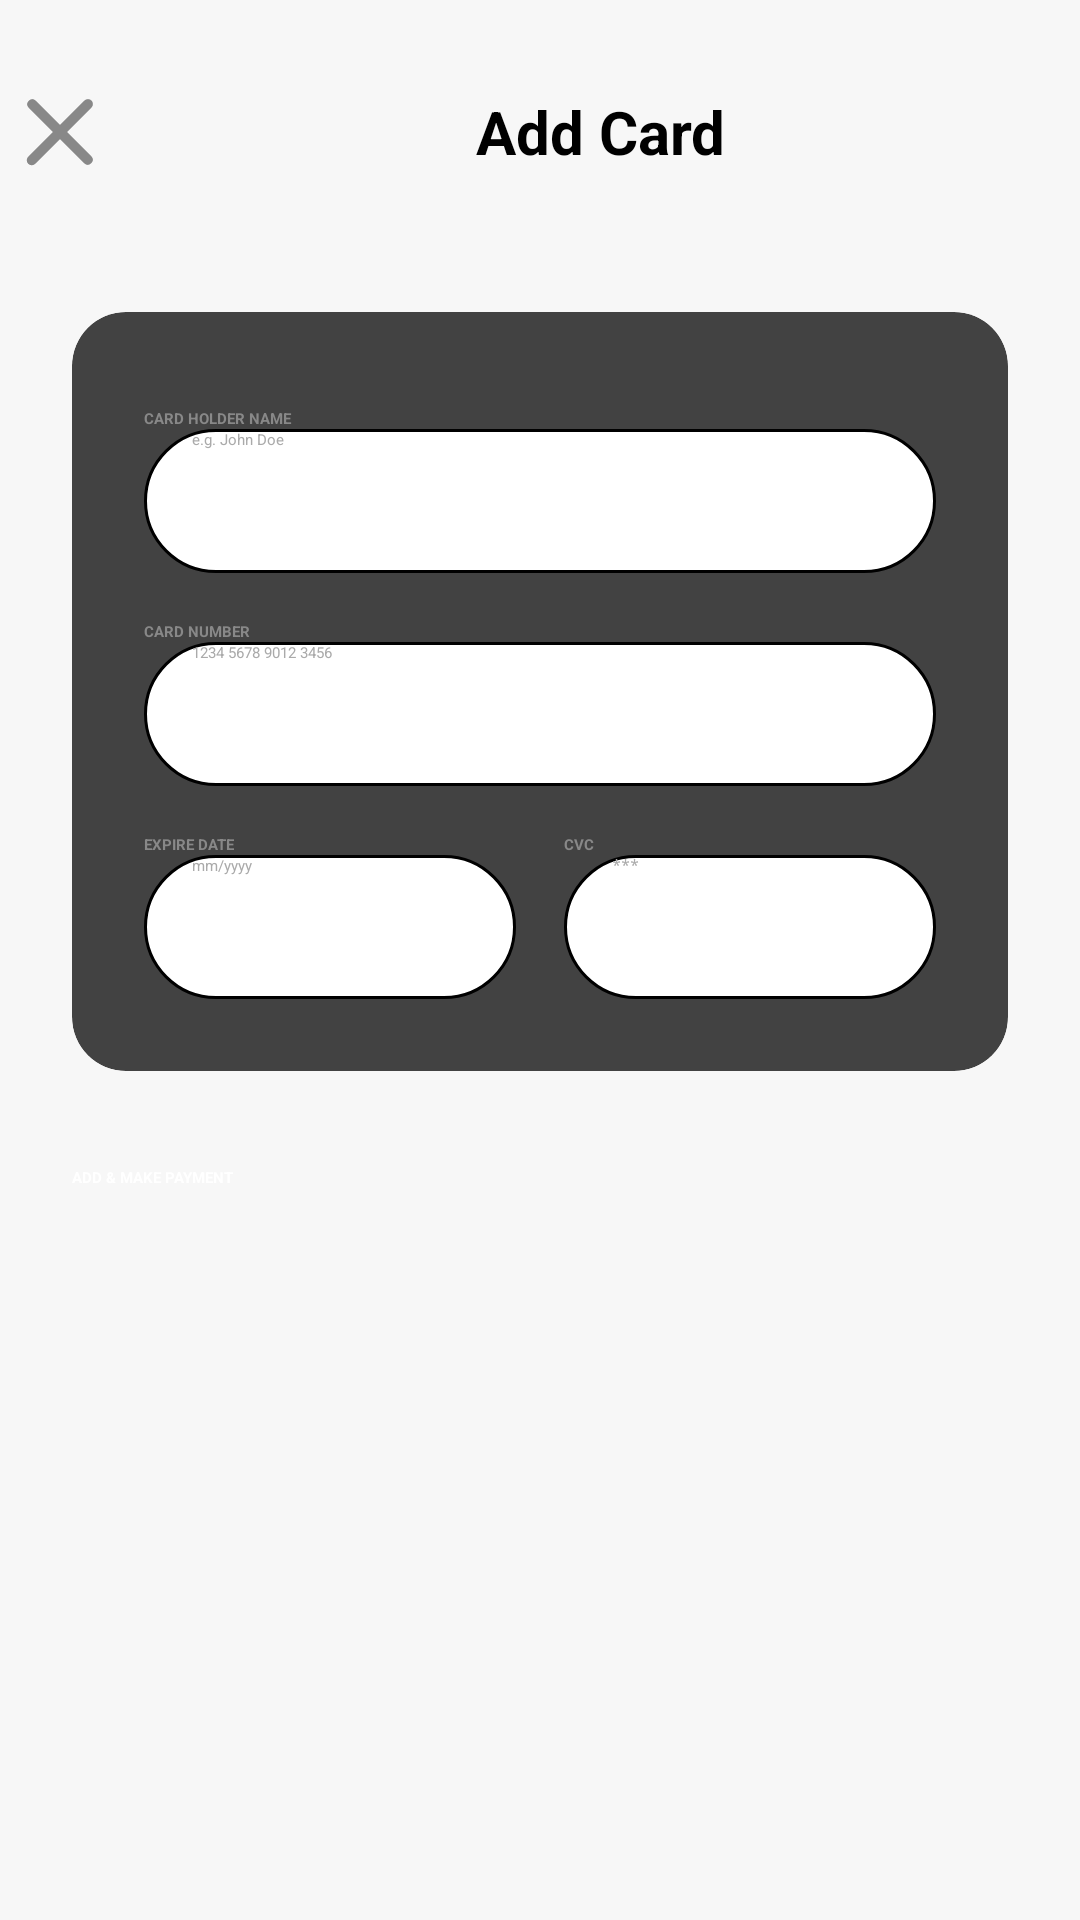

Named icons in this screenshot (1080px x 1920px) and their centers, (x,y):
close: (60,132)
